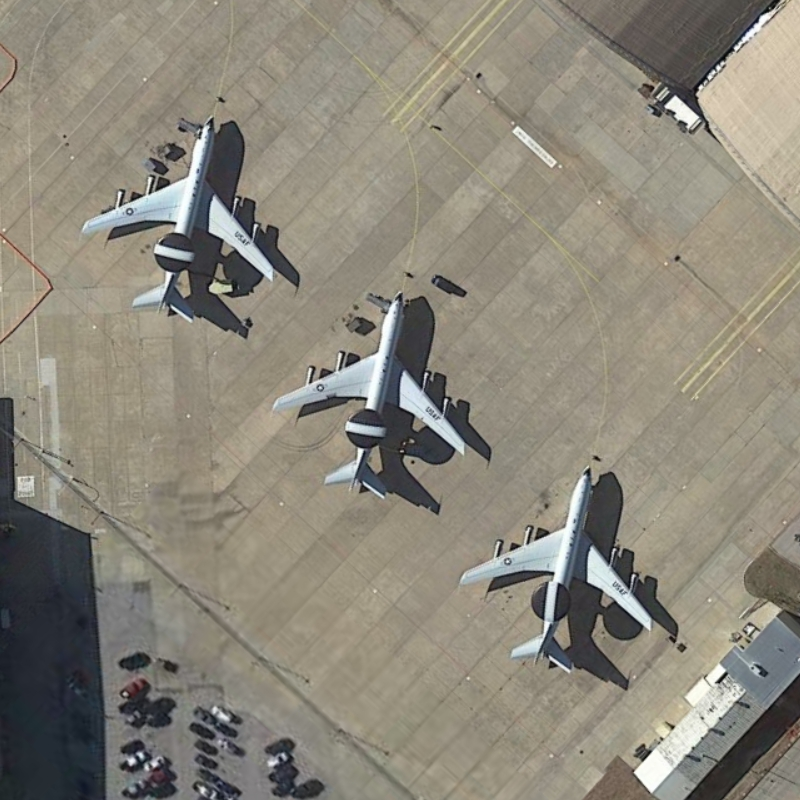A7: (72, 106, 286, 331), (453, 457, 667, 678), (268, 282, 474, 509)
